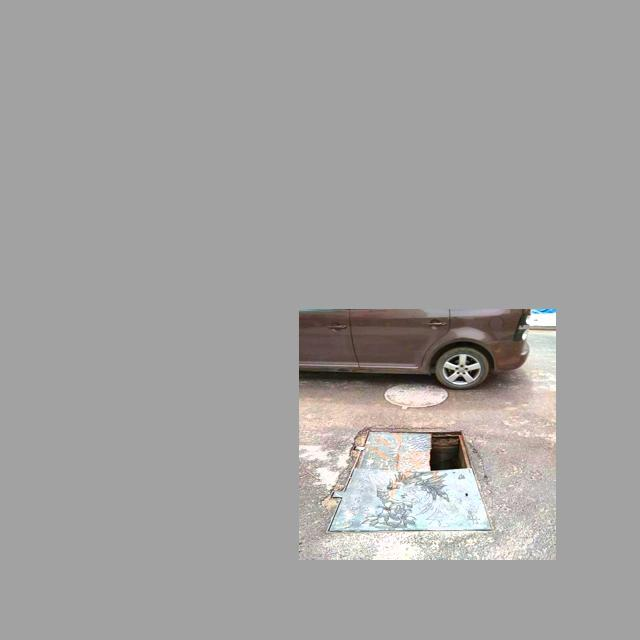broke: (317, 420, 500, 540)
